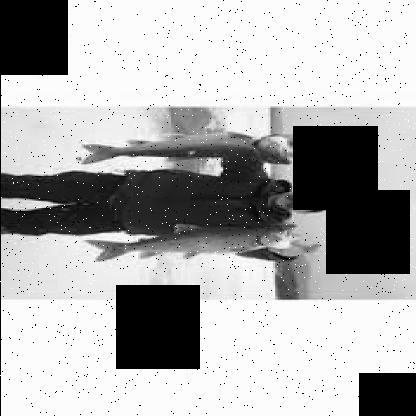fish: (88, 219, 305, 262), (81, 132, 301, 166)
